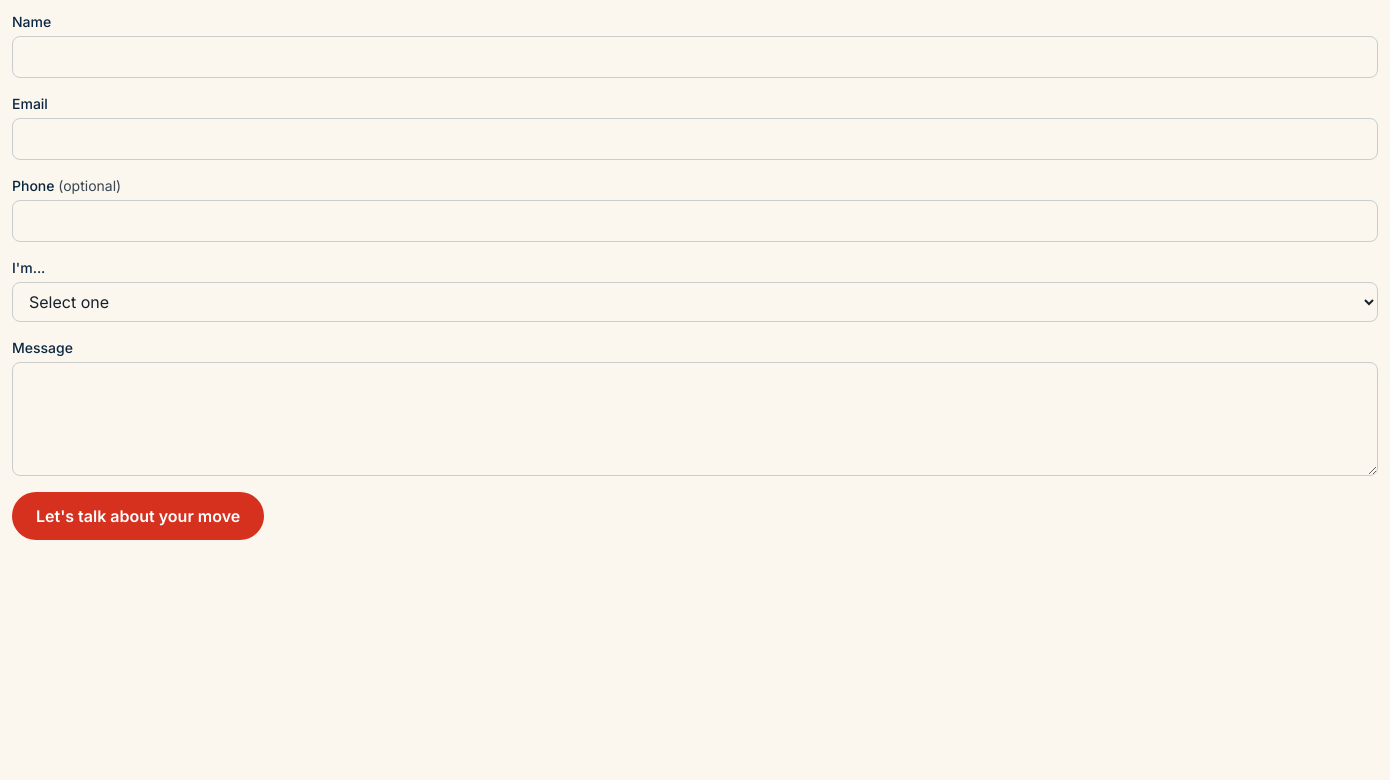
ContactForm › shows a phone fallback when the request fails
Type "Jane Buyer" into the field labelled "Name" at (695, 57), box [12,36,1378,78]
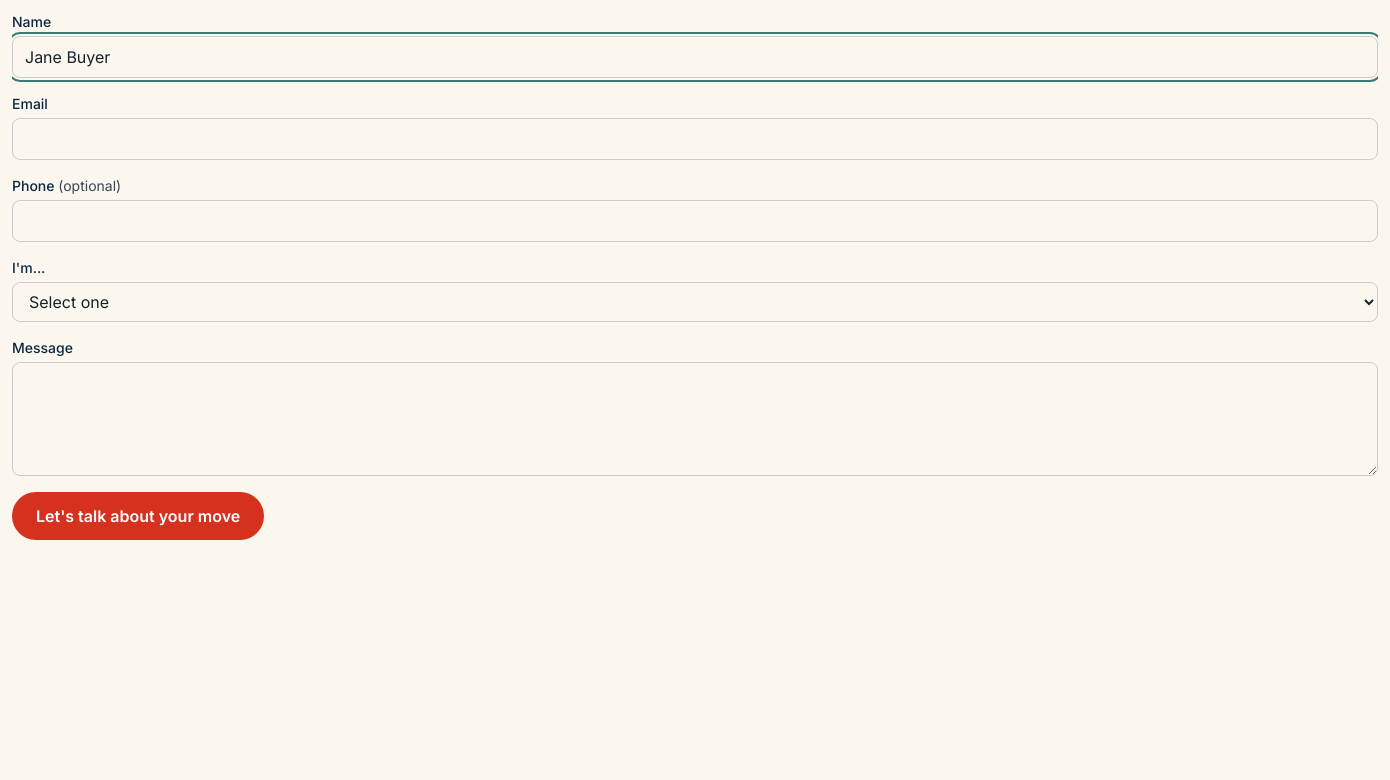
Type "jane@example.com" into the field labelled "Email" at (695, 139), box [12,118,1378,160]
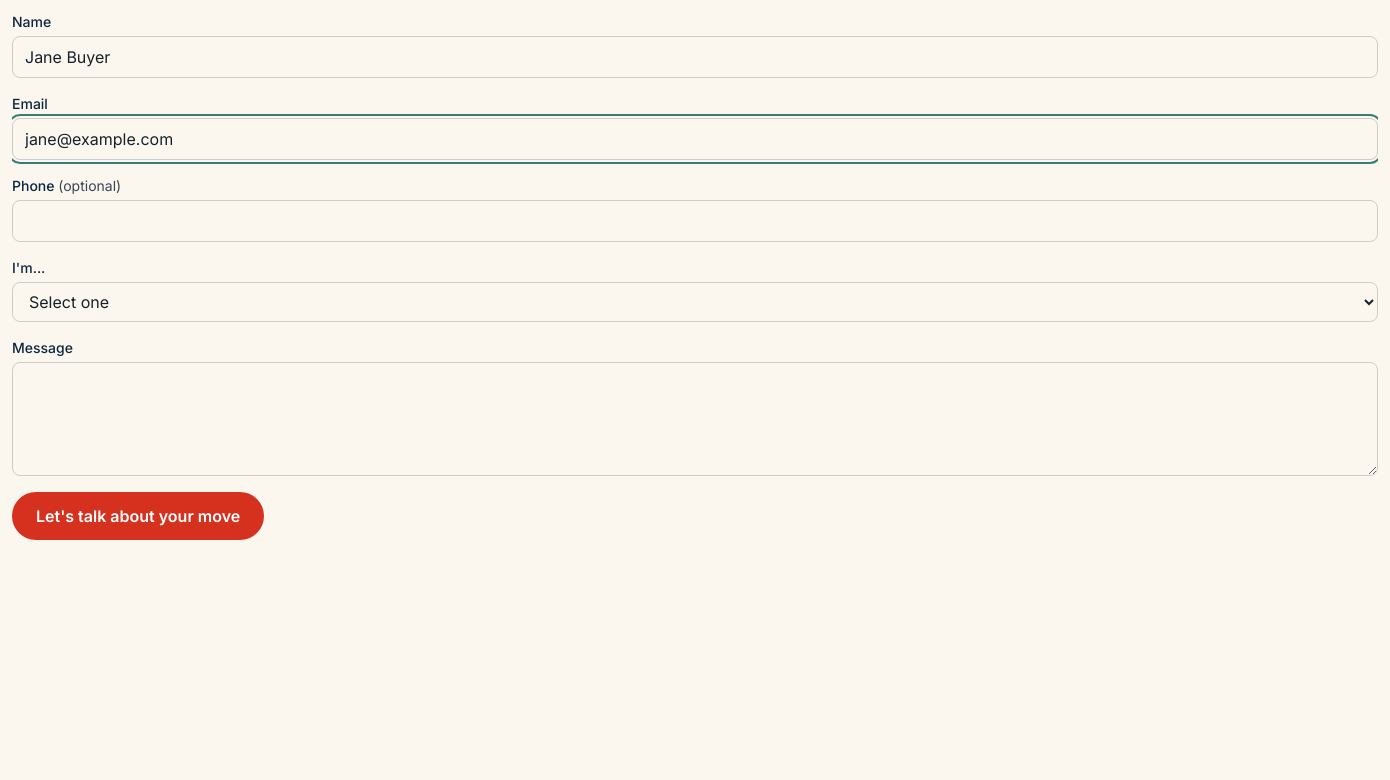
Select "Buying" in the dropdown labelled "I'm..." at (695, 302), box [12,282,1378,322]
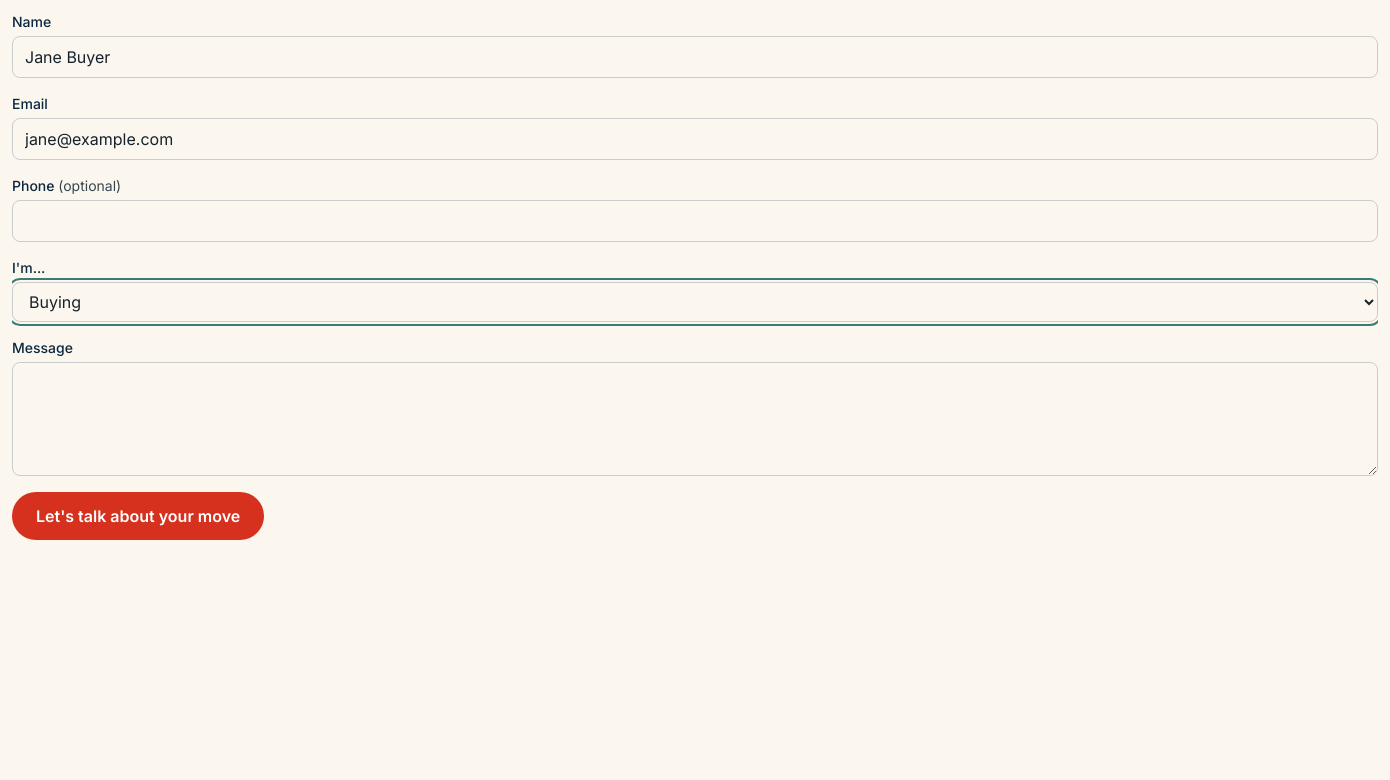
Type "Looking for a waterfront home." into the text box labelled "Message" at (695, 419), box [12,362,1378,476]
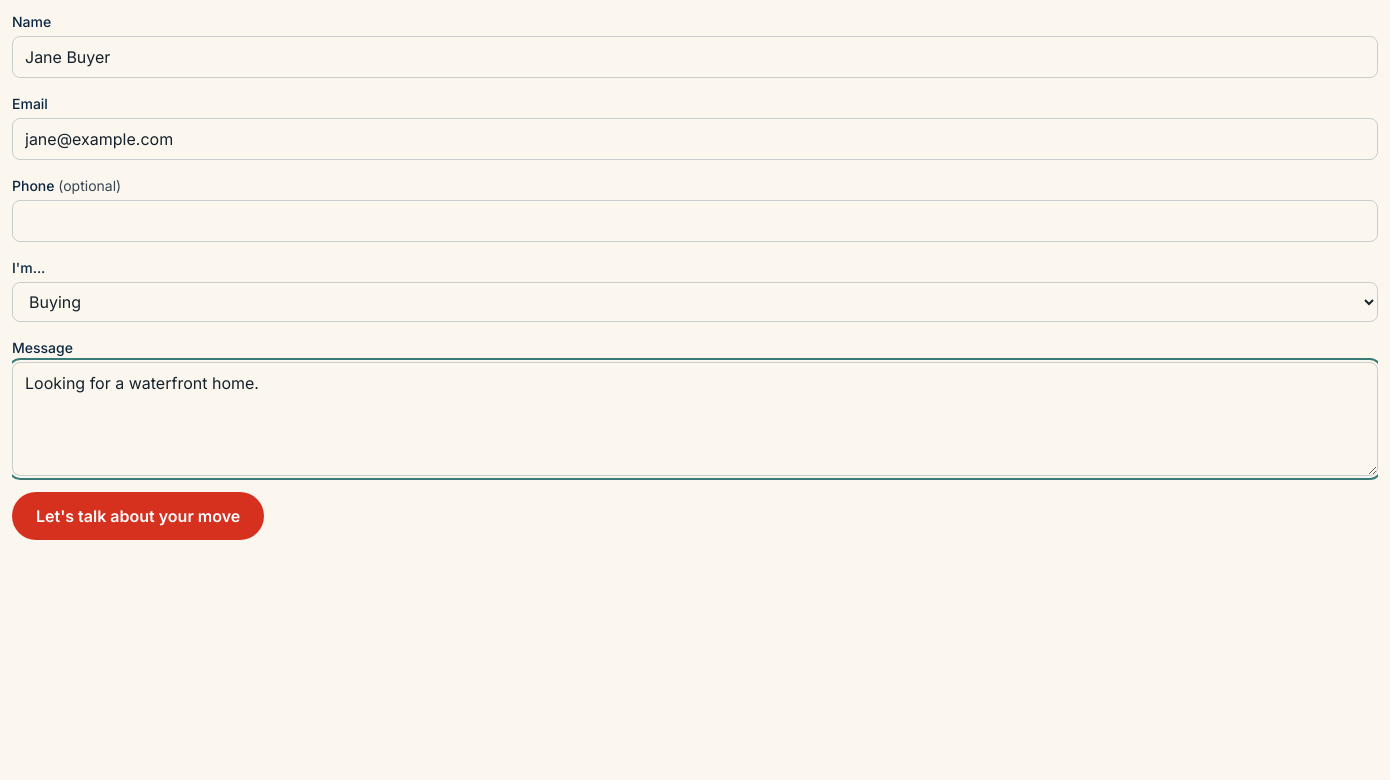
Click the button "Let's talk about your move" at (138, 516), box [12,492,264,540]
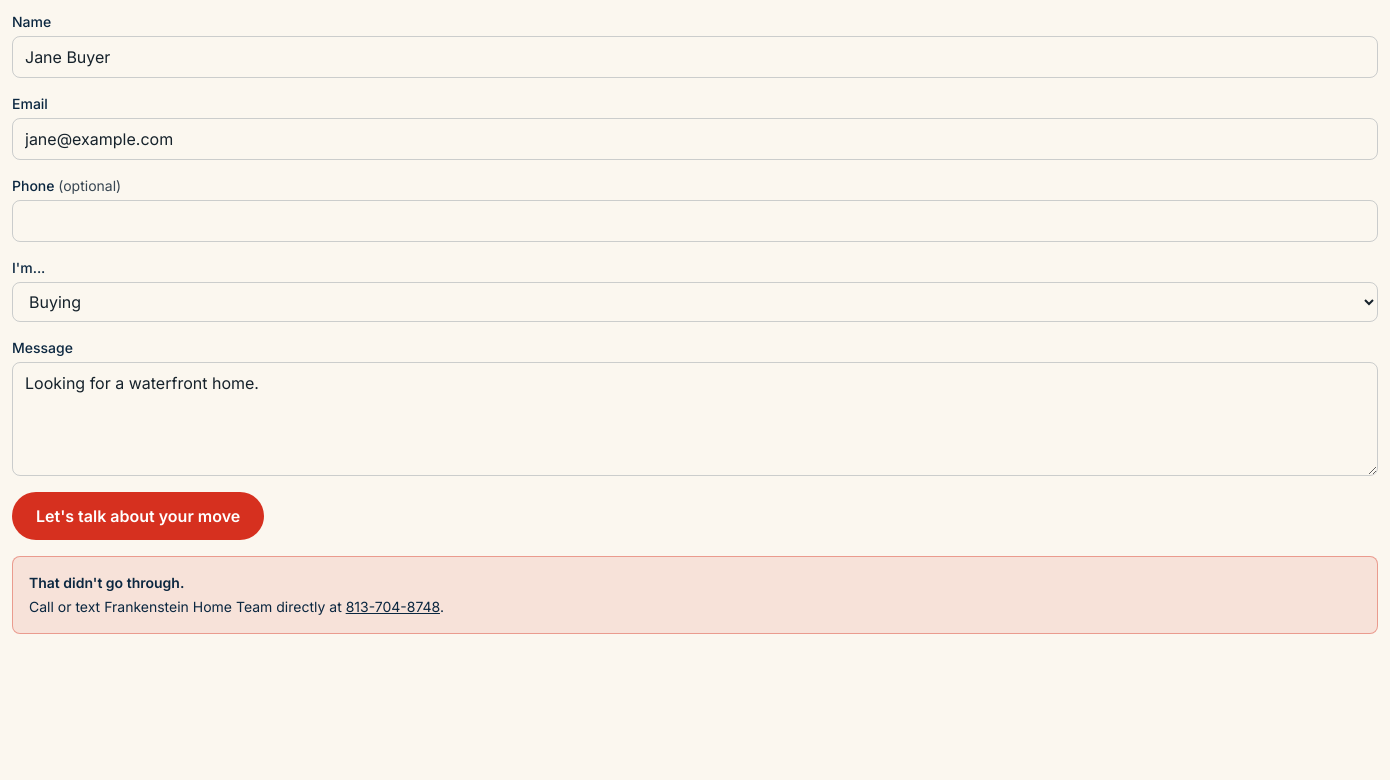
Result: the text "That didn't go through." is shown at [29,574,184,591]
